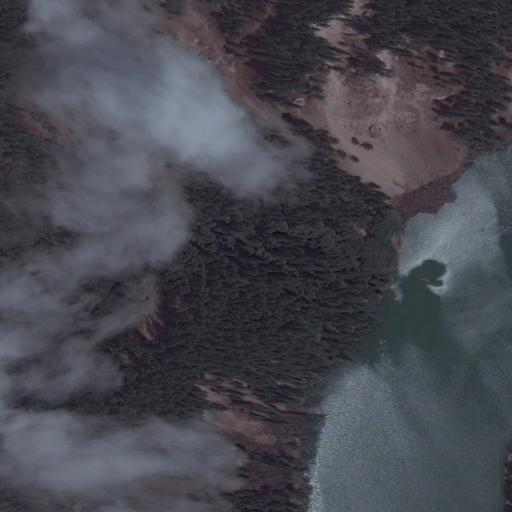landslide: (301, 16, 466, 195)
